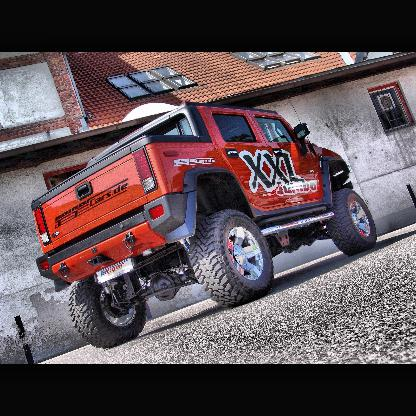HUMMER H2 SUT Crew Cab 2009: (30, 103, 379, 350)
